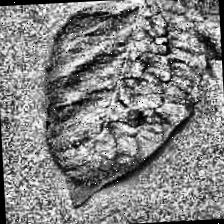spider mites: (37, 0, 224, 208)
